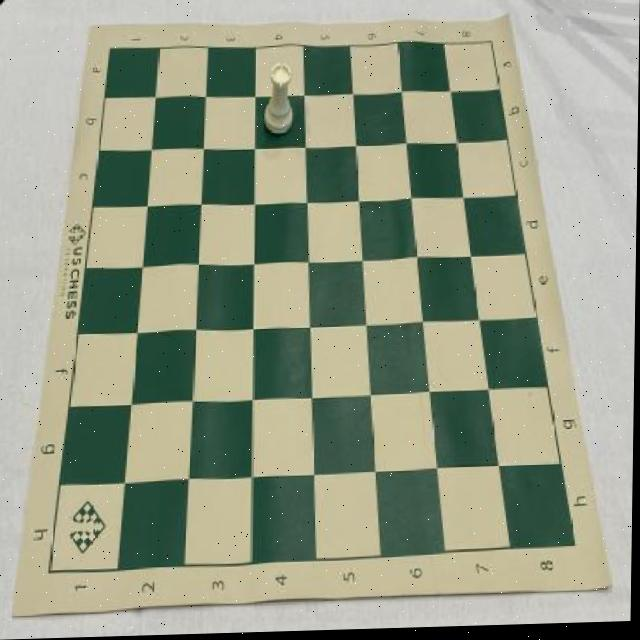white-queen: (264, 64, 296, 138)
